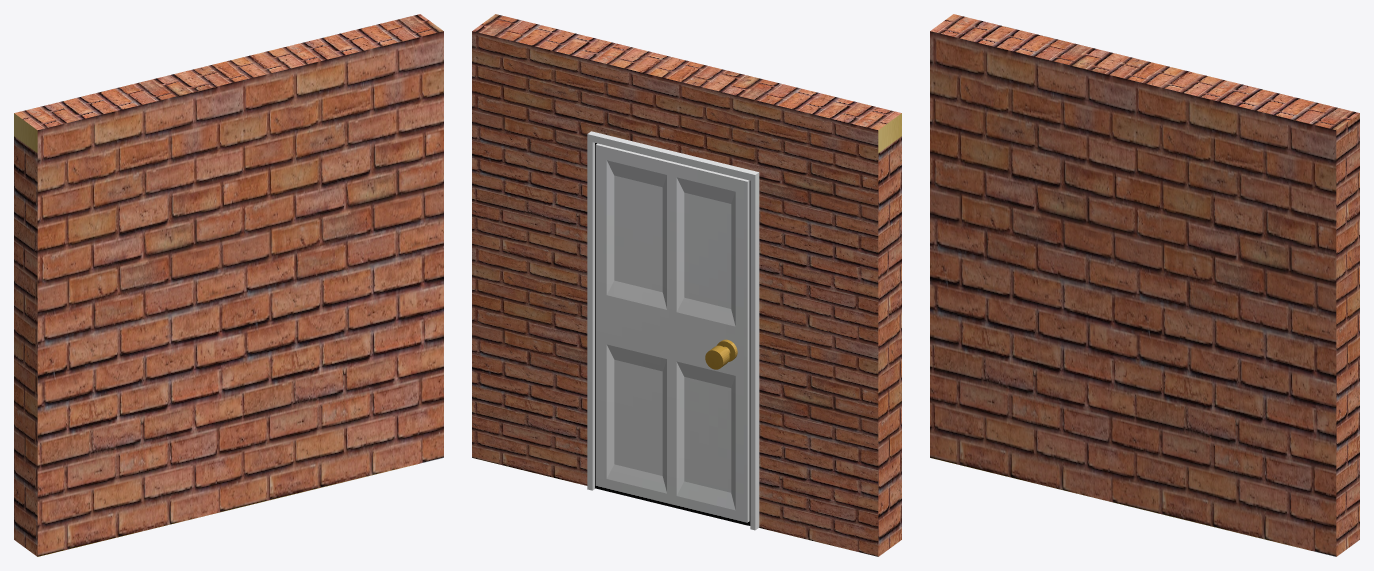
Rendered from wallwithdoor.obj.
The picture shows the model from 3 angles, left to right: view 1: azimuth 30°, elevation 25°; view 2: azimuth 150°, elevation 25°; view 3: azimuth 330°, elevation 25°; orthographic projection.
Visible parts, largest first — view 1: Cube.003; view 2: Cube.003; view 3: Cube.003.
Part boxes in pixels (box(x1,y1,x2,y2)): Cube.003: box(14, 14, 443, 556); Cube.003: box(472, 14, 901, 556); Cube.003: box(930, 14, 1359, 556).
Size of the model in its own units: 20 by 20.07 by 3.48.
